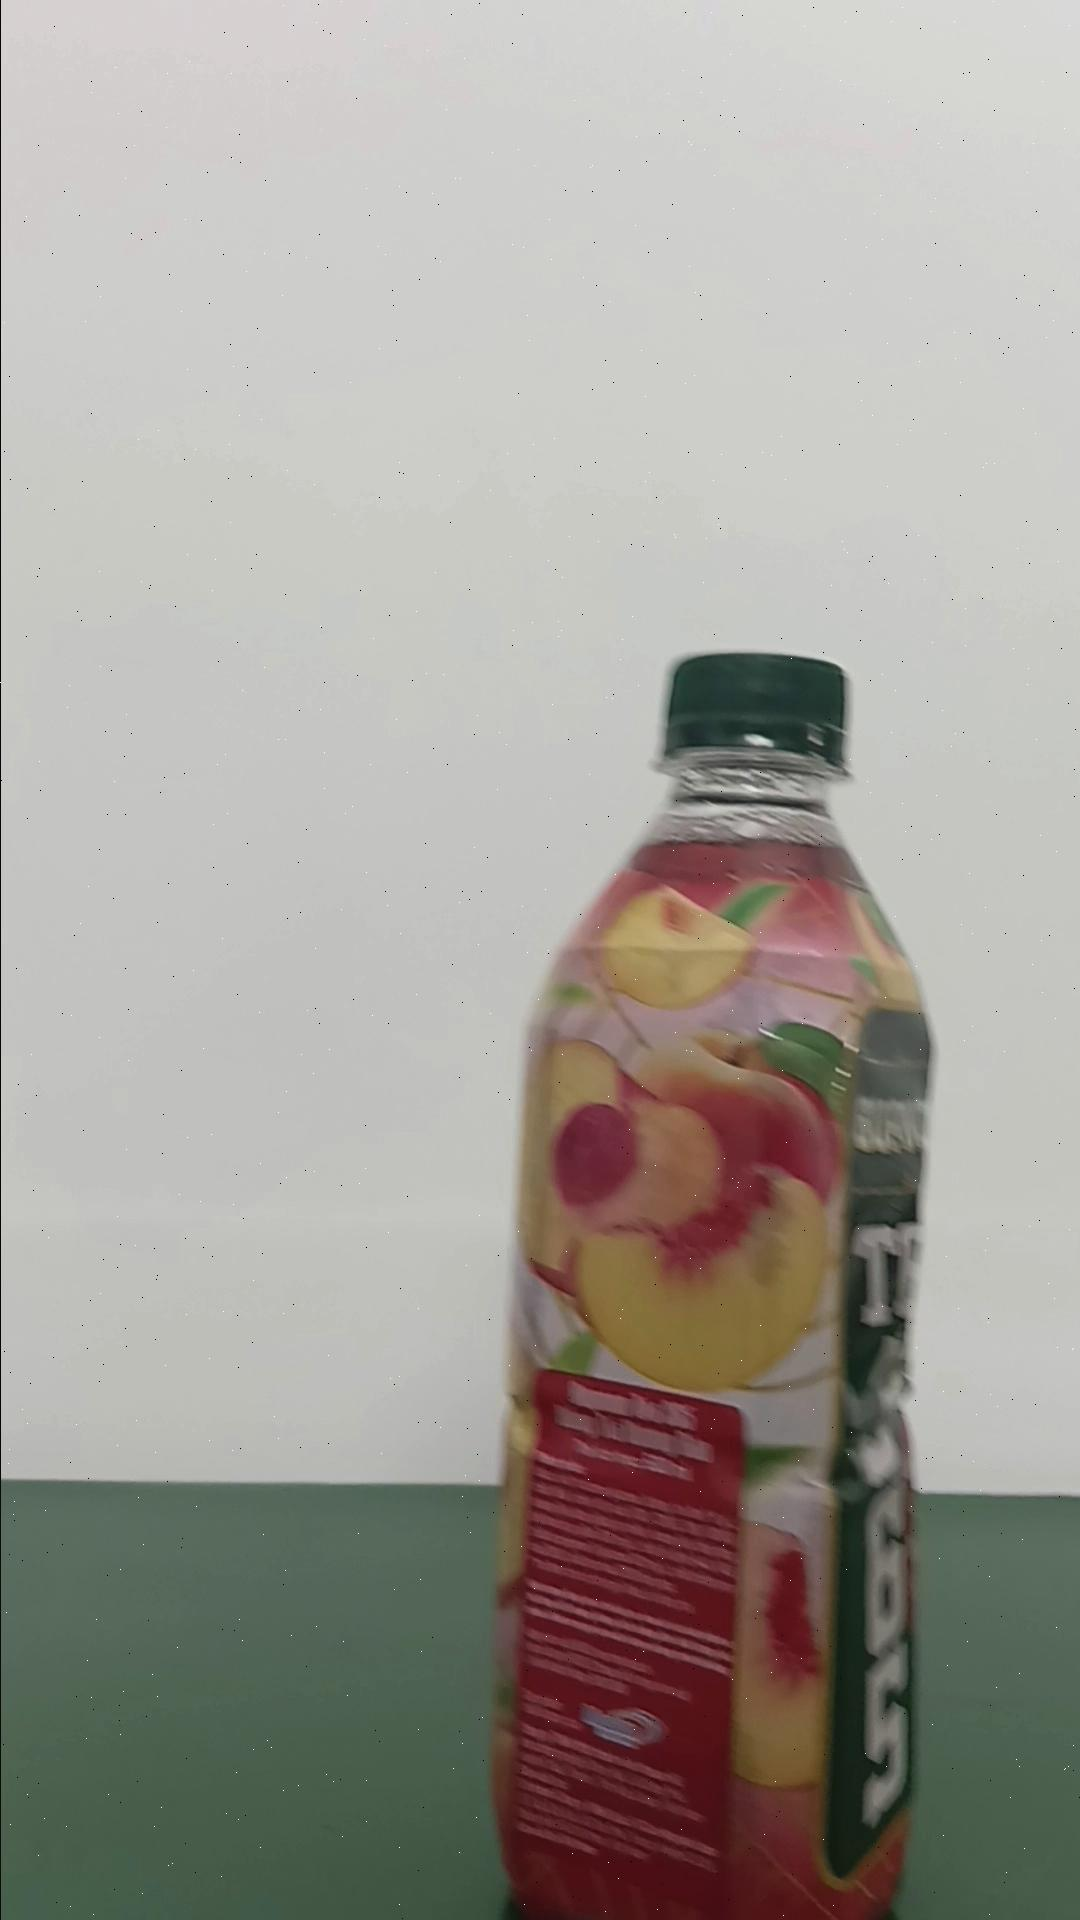loi meo sp: (476, 647, 940, 1915)
